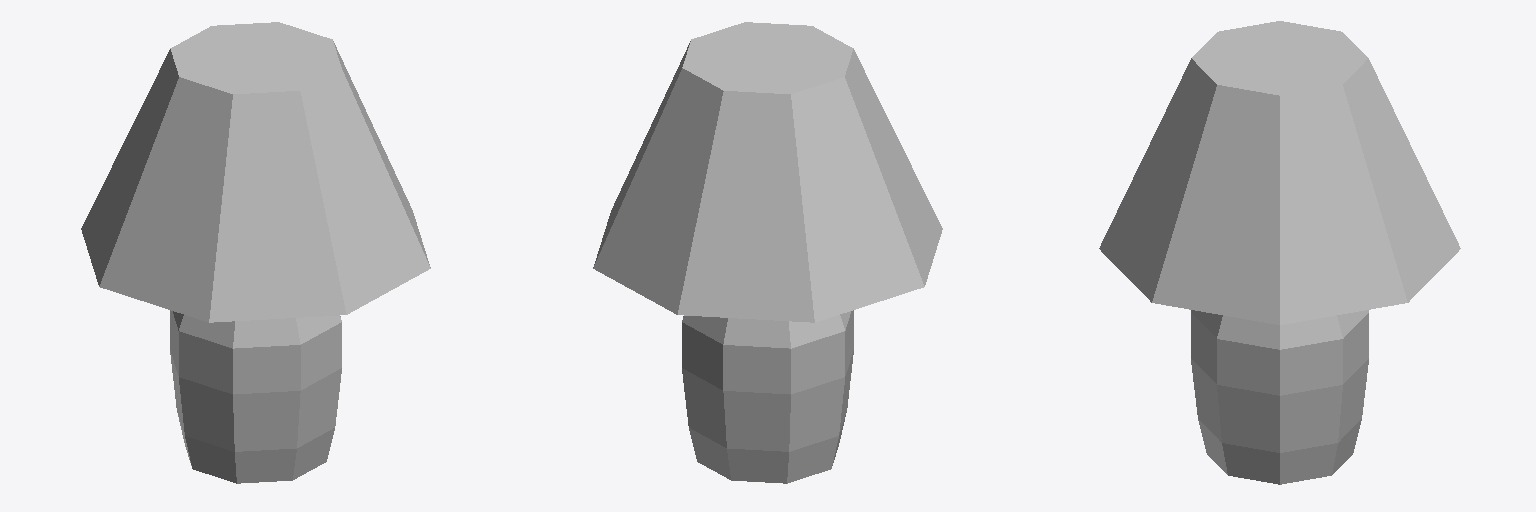
File: lampara.obj
3 renders of one model, left to right at view 1: azimuth 30°, elevation 25°; view 2: azimuth 150°, elevation 25°; view 3: azimuth 270°, elevation 25°, orthographic.
Parts seen in each view (by area): view 1: pCylinder1; view 2: pCylinder1; view 3: pCylinder1.
Boxes of the visible parts, x1=… form: pCylinder1: x1=81, y1=22, x2=430, y2=483; pCylinder1: x1=593, y1=22, x2=942, y2=483; pCylinder1: x1=1099, y1=21, x2=1460, y2=484.
Bounding box in the file's own units: 1.11 × 1.34 × 1.11.